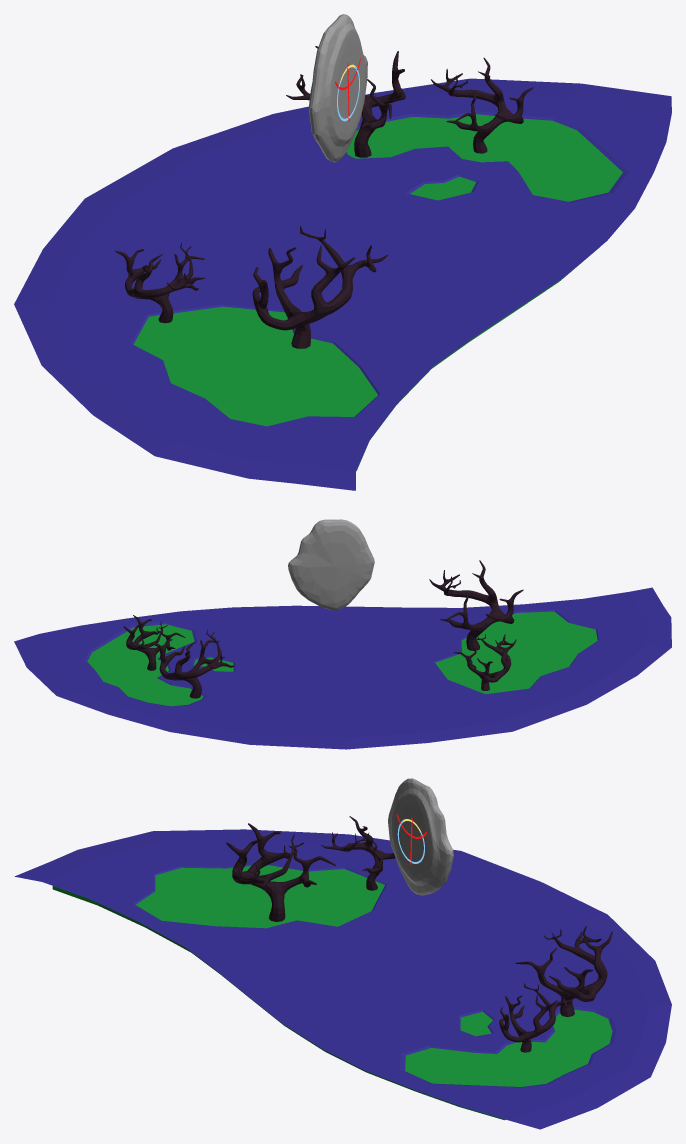
The model's file is DemonDesolateShowcase.glb.
3 views of the same model, one above another, from view 1: azimuth 30°, elevation 25°; view 2: azimuth 150°, elevation 25°; view 3: azimuth 270°, elevation 25° (orthographic). The views are drawn at different scales.
Parts seen in each view (by area): view 1: DemonAngelShowcase; view 2: DemonAngelShowcase; view 3: DemonAngelShowcase.
Boxes of the visible parts, x1=… form: DemonAngelShowcase: x1=14, y1=14, x2=671, y2=490; DemonAngelShowcase: x1=14, y1=519, x2=671, y2=749; DemonAngelShowcase: x1=14, y1=778, x2=671, y2=1129.
Size of the model in its own units: 35.88 by 10.69 by 33.24.
